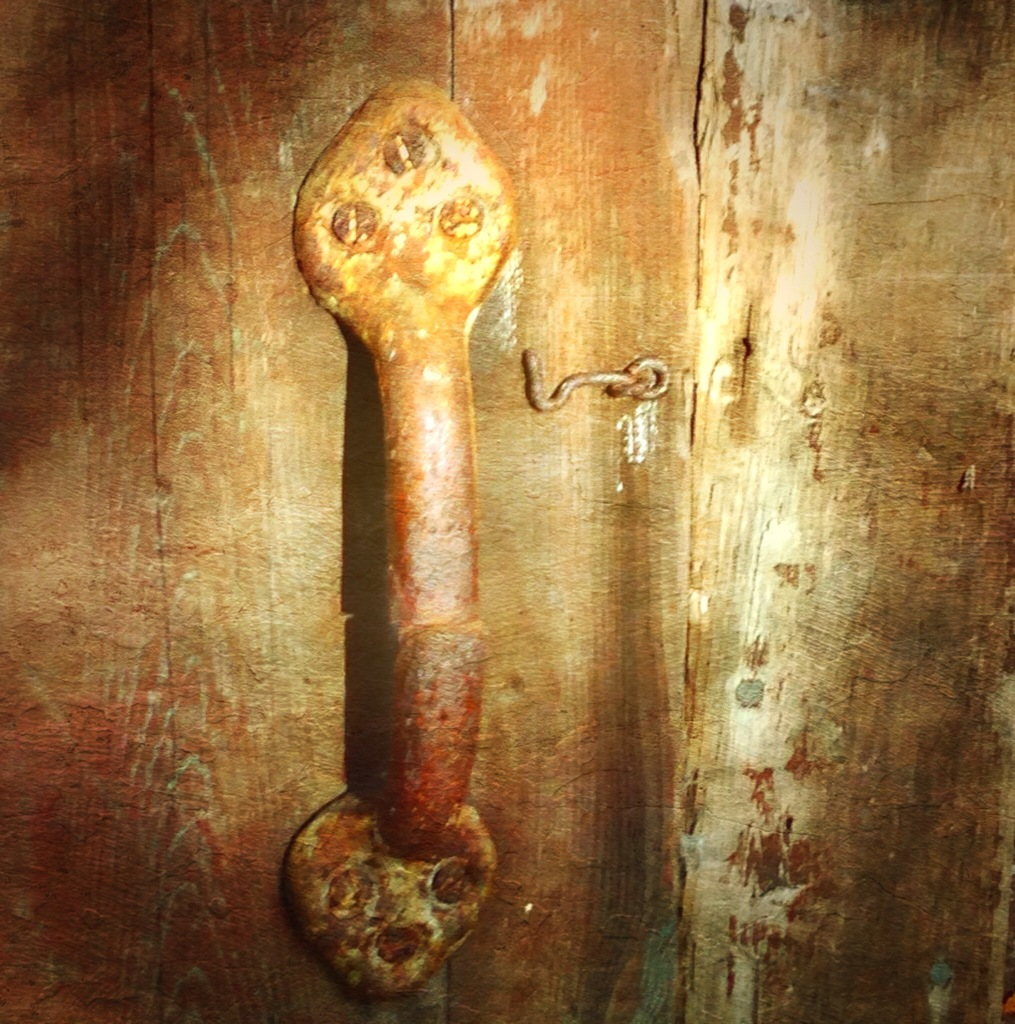door: (6, 33, 1005, 1007)
handle: (305, 154, 516, 852)
